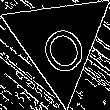O_NW: (29, 8, 89, 75)
